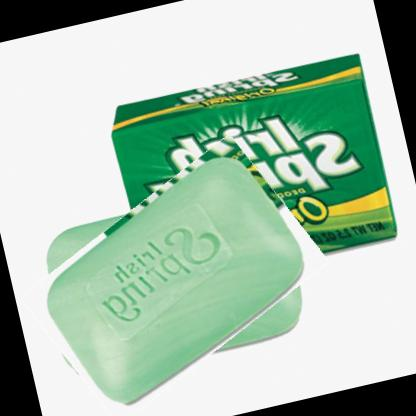soap: (11, 146, 338, 416)
